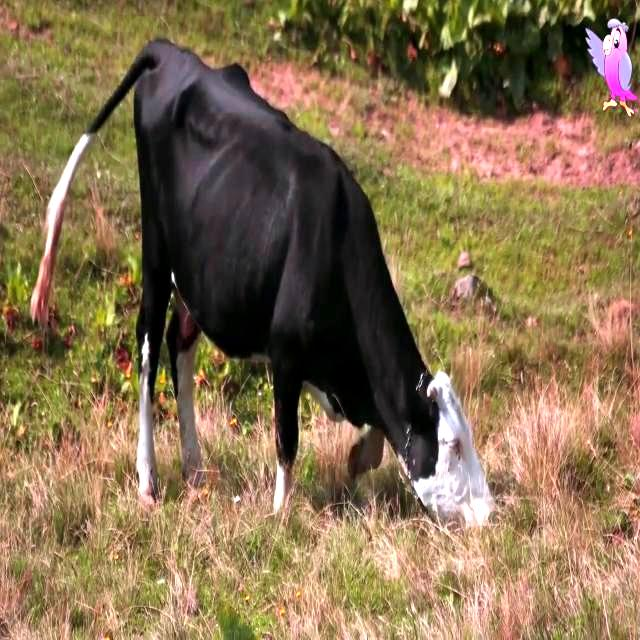COW: (88, 40, 494, 525)
